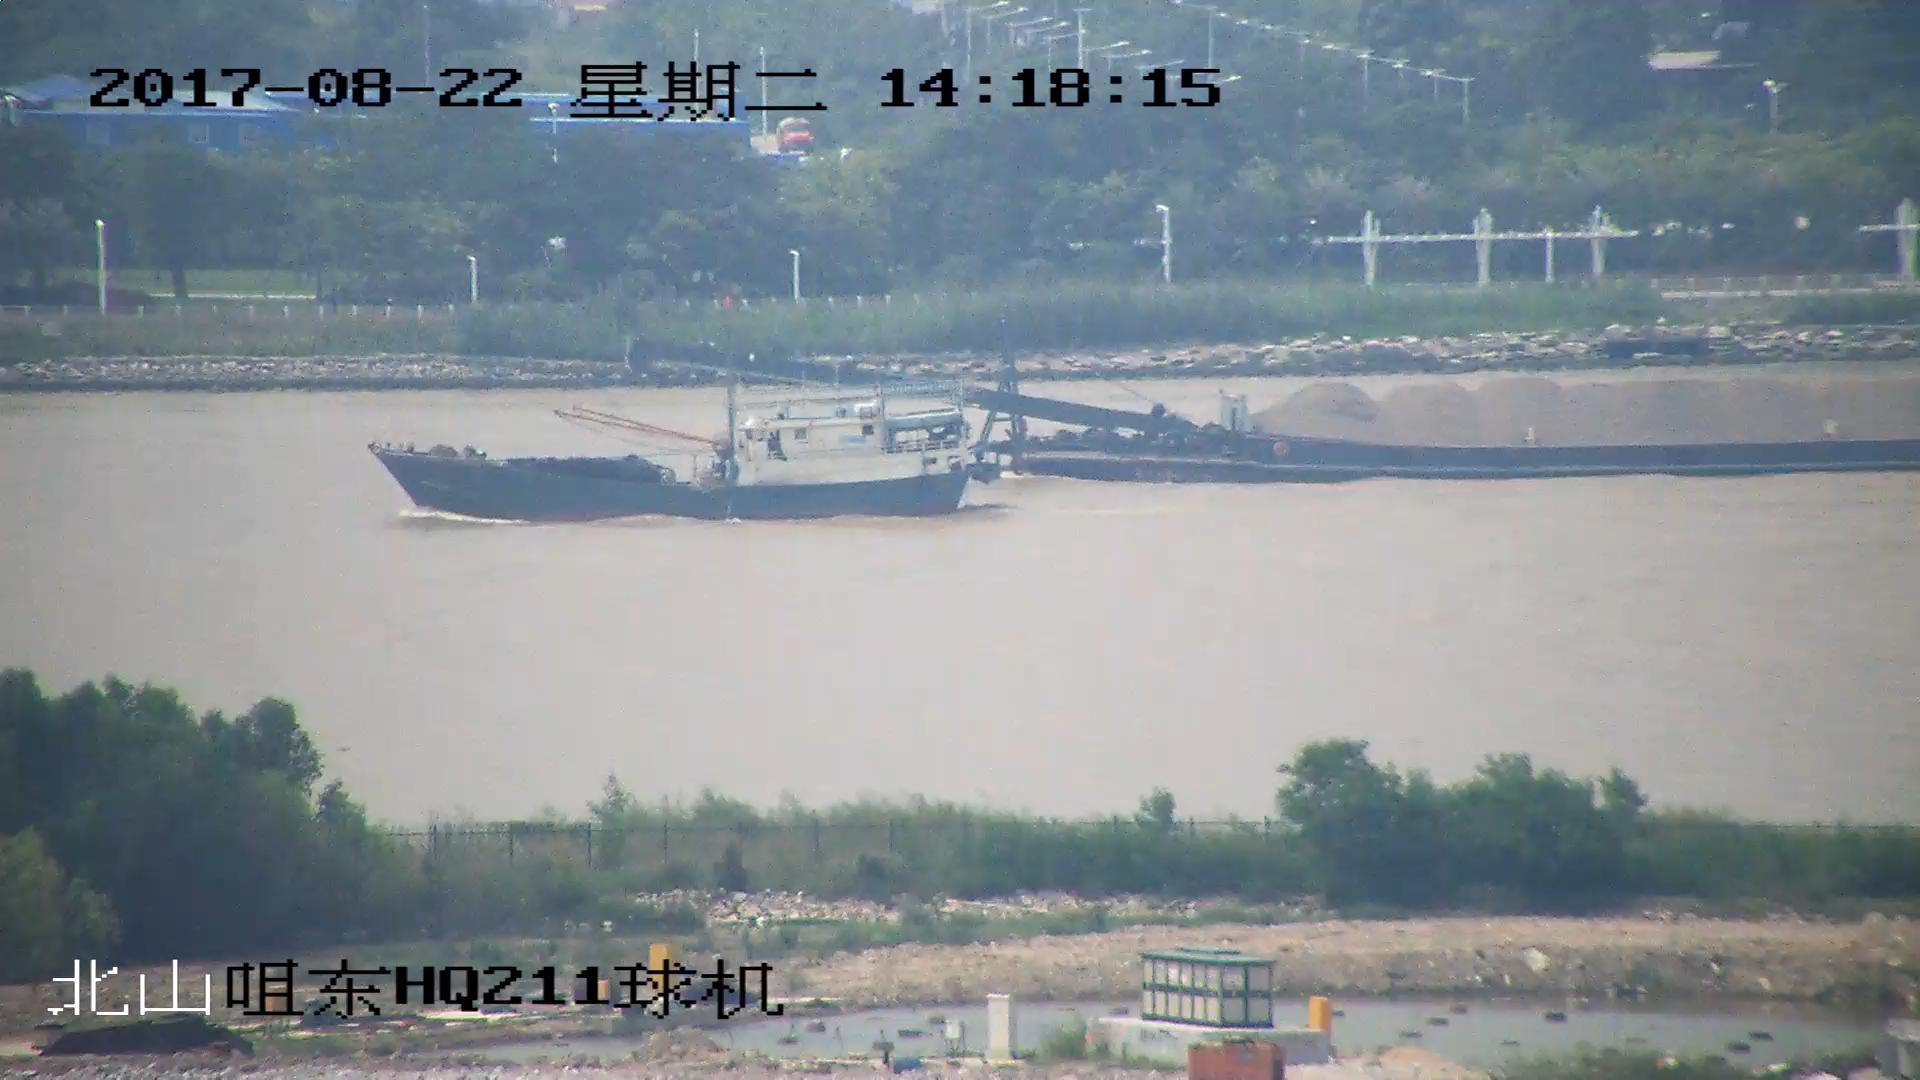Ship: (632, 334, 1920, 484), (371, 305, 1004, 525)
